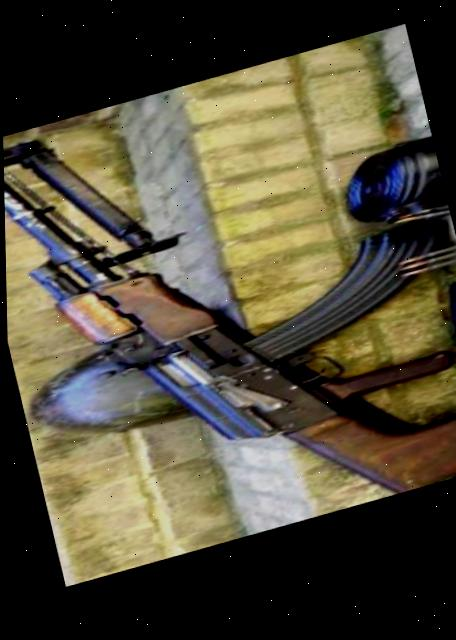rifle: (1, 25, 456, 590)
